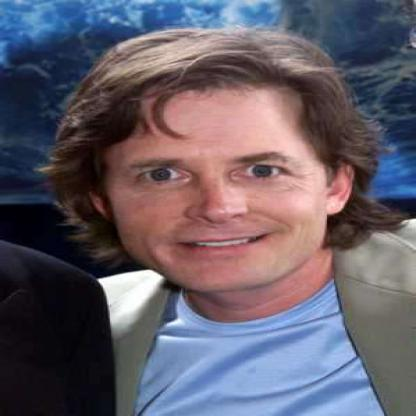face: (106, 54, 330, 293)
